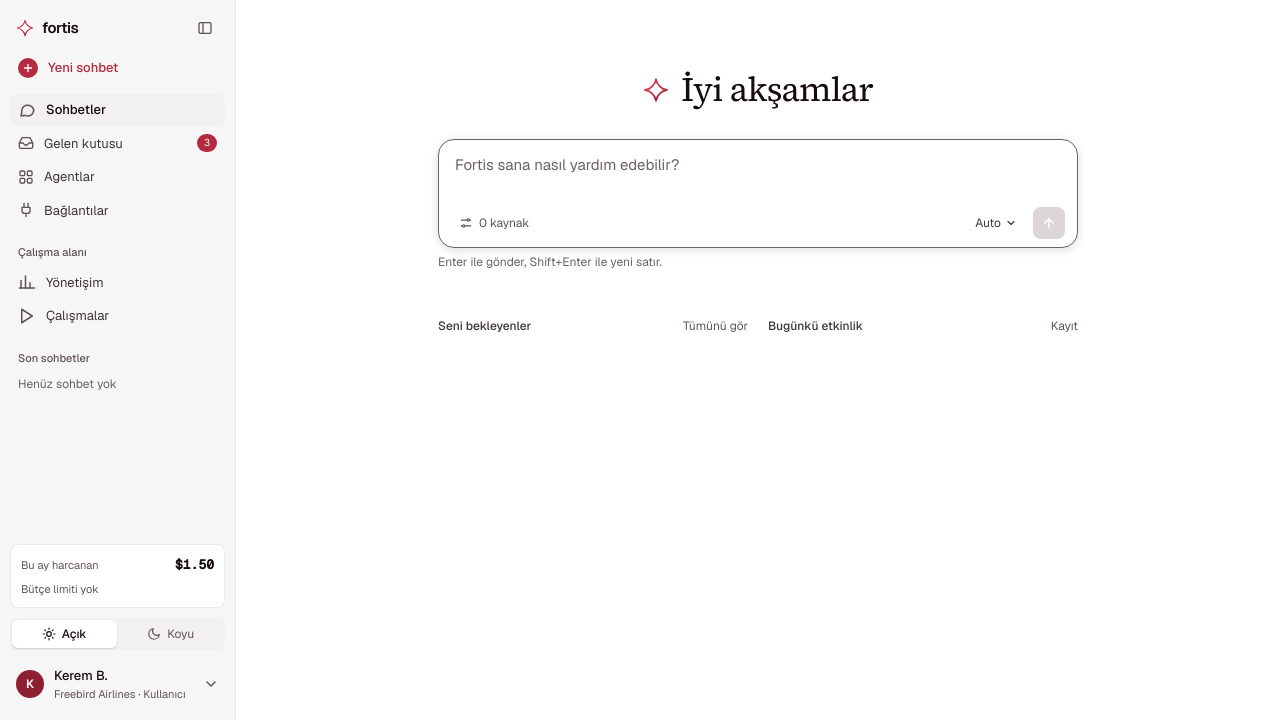
Test case: kabuk › user rolünde "Oluştur" ve admin menüsü görünmez
The width and height of the screenshot is (1280, 720).
Expected: the link "Agentlar" is shown, [18,168,95,185]
What coordinates should you click on to do the following:
click the button with aria-label "Kullanıcı menüsü"
I would click on:
 (118, 684)
Its box is [10,660,225,708].
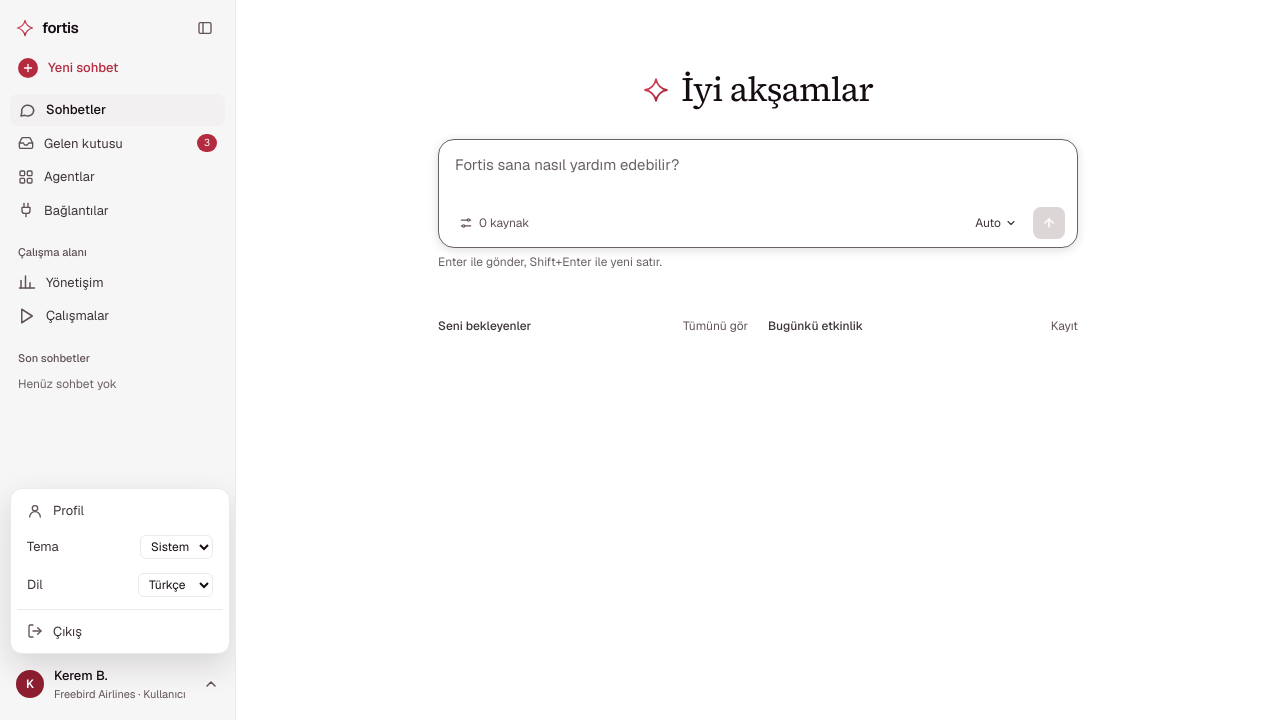
Now the menu item "Profil" is shown, box [27,502,84,519]
